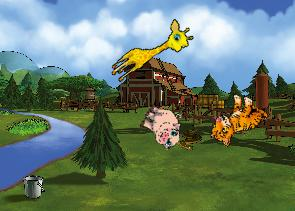giraffe: (106, 15, 197, 92)
pig: (134, 99, 189, 152)
tiger: (206, 87, 271, 156)
